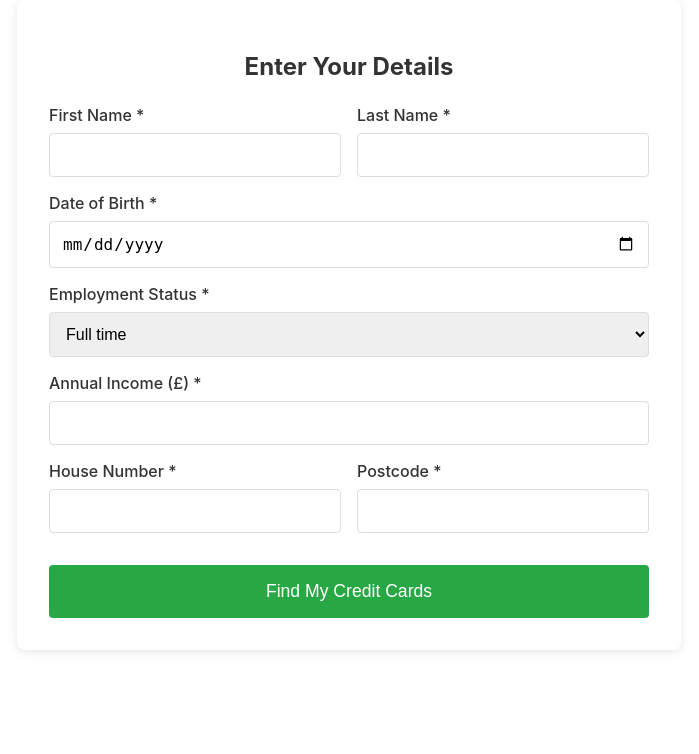
Test: UserForm › clears error when user starts typing in field with error
Note: Trigger validation
Click the button "Find My Credit Cards". click: (349, 591)
box: [49, 565, 649, 618]
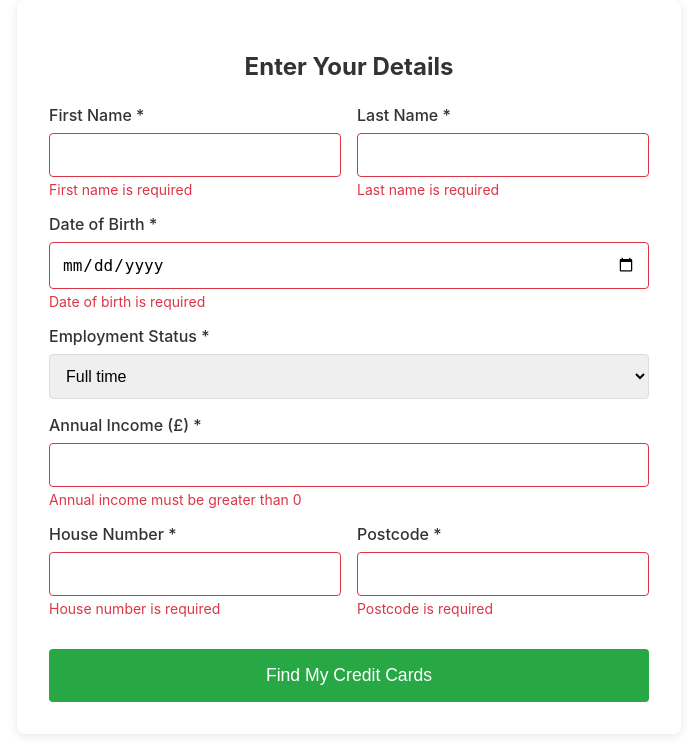
Expected: the text "First name is required" is shown, [49, 181, 192, 198]
Note: Start typing in first name field
Type "J" into the field labelled "First Name *". click: (195, 155)
box: [49, 133, 341, 177]
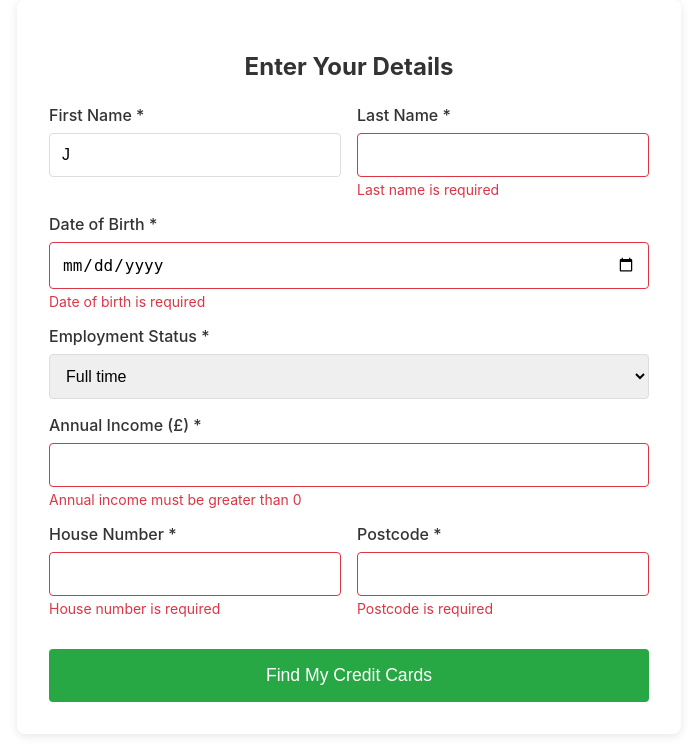
Expected: the text "First name is required" is gone
